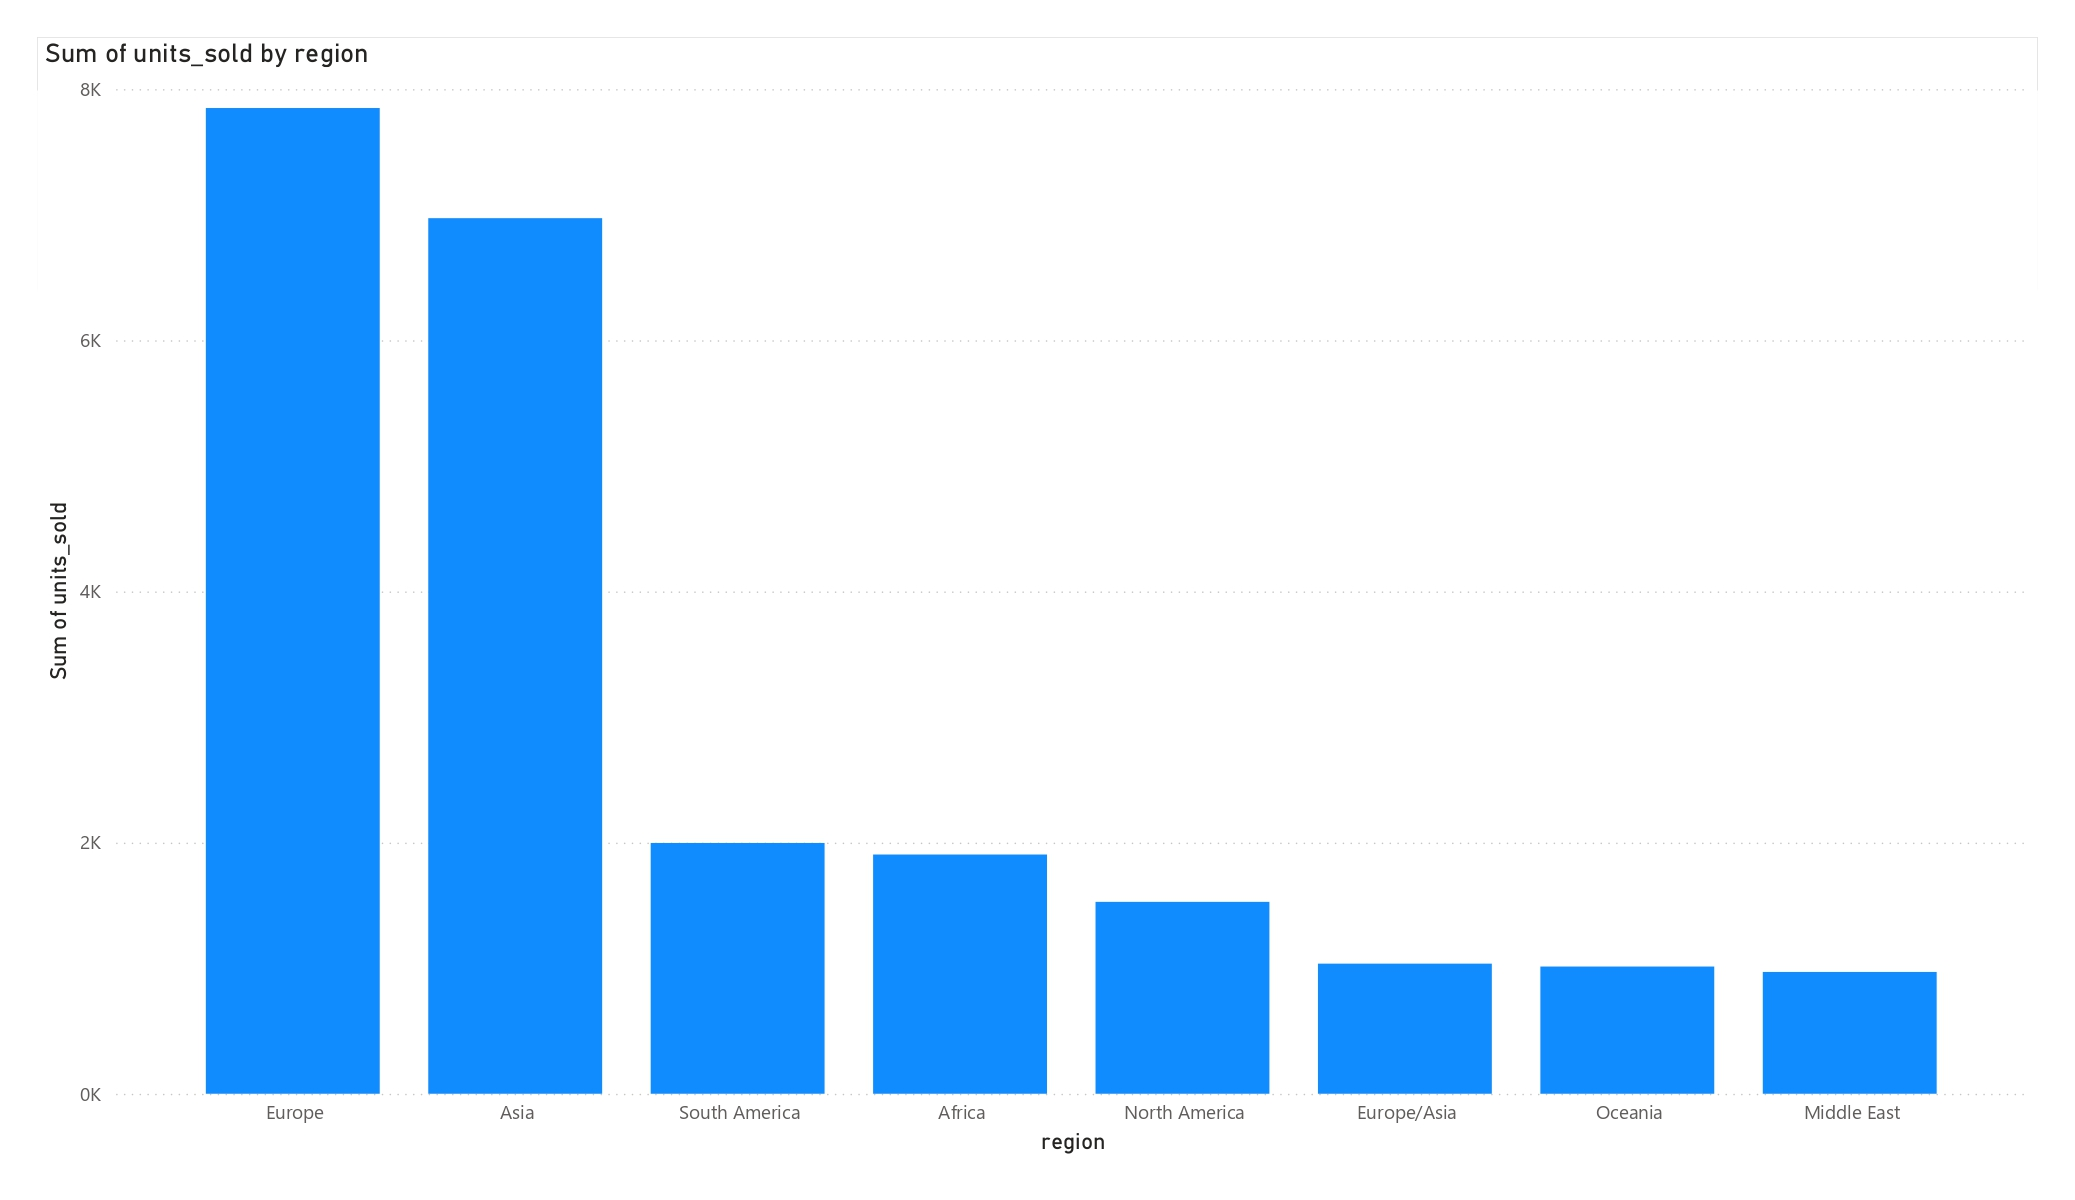

This screenshot's page, from the dashboard's own definition file:
{"tool":"powerbi","page":{"name":"Page 11","canvas":[1280,720],"ordinal":9},"visuals":[{"type":"columnChart","fields":{"Y":["Sum(apple_sales_cleaned.units_sold)"],"Category":["apple_sales_cleaned.region"]},"box":[0,0,1280,719.8],"z":0}]}

Visuals, with their boxes on the page's 1280x720 design canvas (x1, y1, x2, y2). These are canvas units, not pixel positions in the 2075x1200 screenshot, which may show the page scaled, cropped or inside an application window:
columnChart - Sum(apple_sales_cleaned.units_sold) x apple_sales_cleaned.region: l=0, t=0, r=1280, b=720
